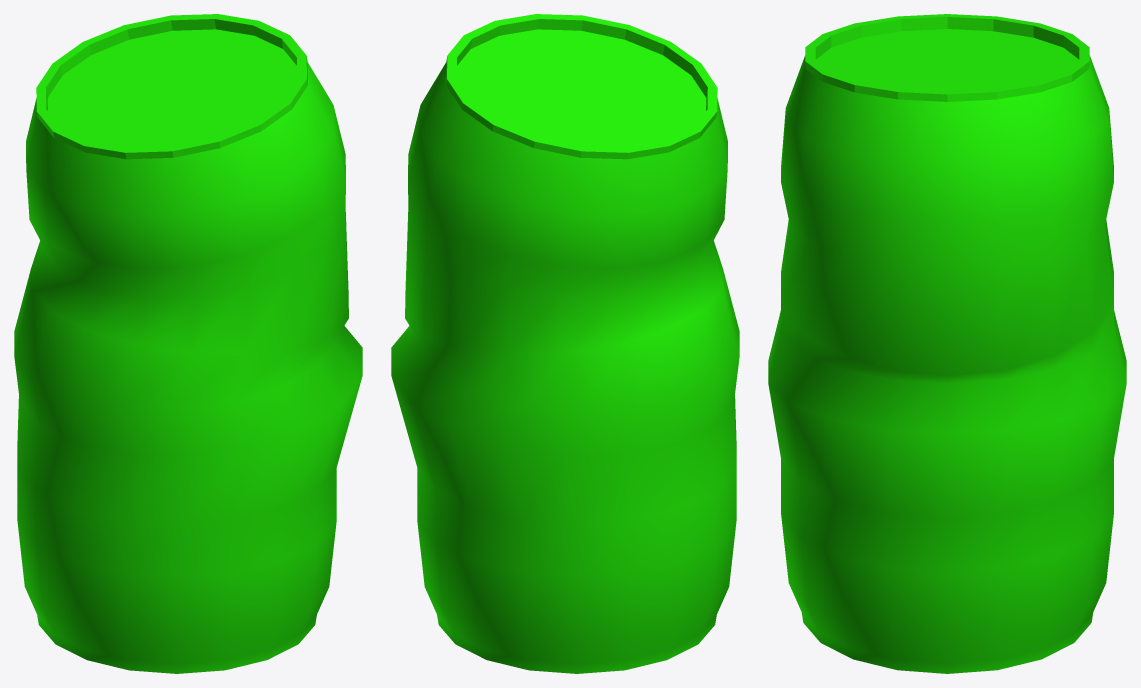
The model's file is umgebung_dose_2_low.FBX.
3 views of the same model, side by side, from view 1: azimuth 30°, elevation 25°; view 2: azimuth 150°, elevation 25°; view 3: azimuth 270°, elevation 25° (orthographic). The views are drawn at different scales.
Visible parts, largest first — view 1: o_dose_2_low; view 2: o_dose_2_low; view 3: o_dose_2_low.
Part boxes in pixels (x1,y1,x2,y2): o_dose_2_low: (14,14,362,673); o_dose_2_low: (391,14,739,673); o_dose_2_low: (768,14,1126,673).
Bounding box in the file's own units: 9.73 × 16.65 × 9.41.
